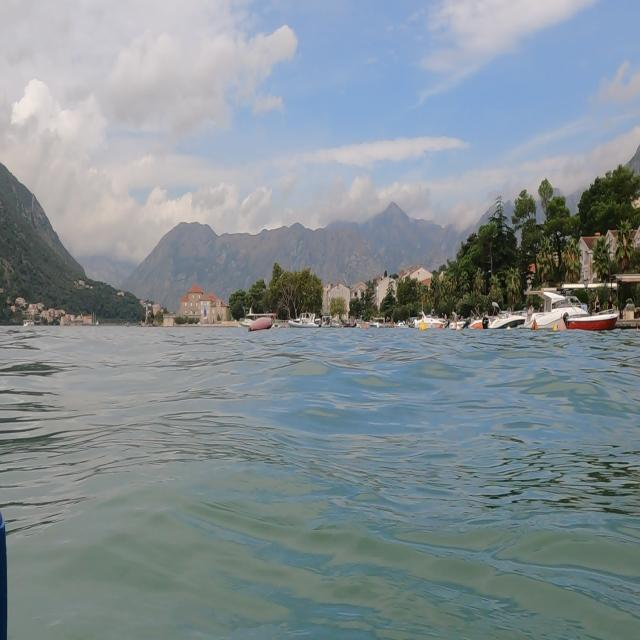boat: (518, 270, 636, 341), (474, 299, 528, 345), (404, 303, 455, 339)
buoy: (244, 311, 274, 338)
